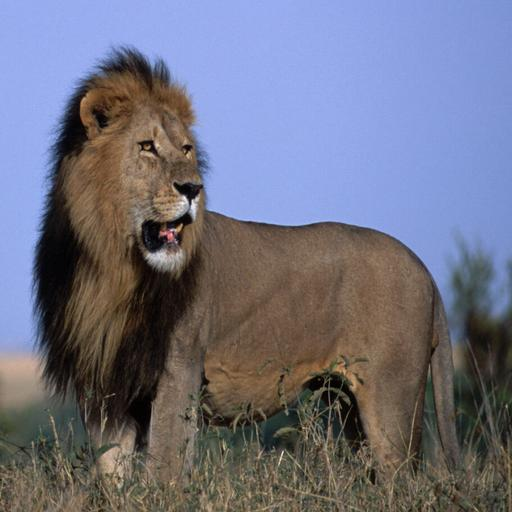Lion: (25, 44, 486, 512)
